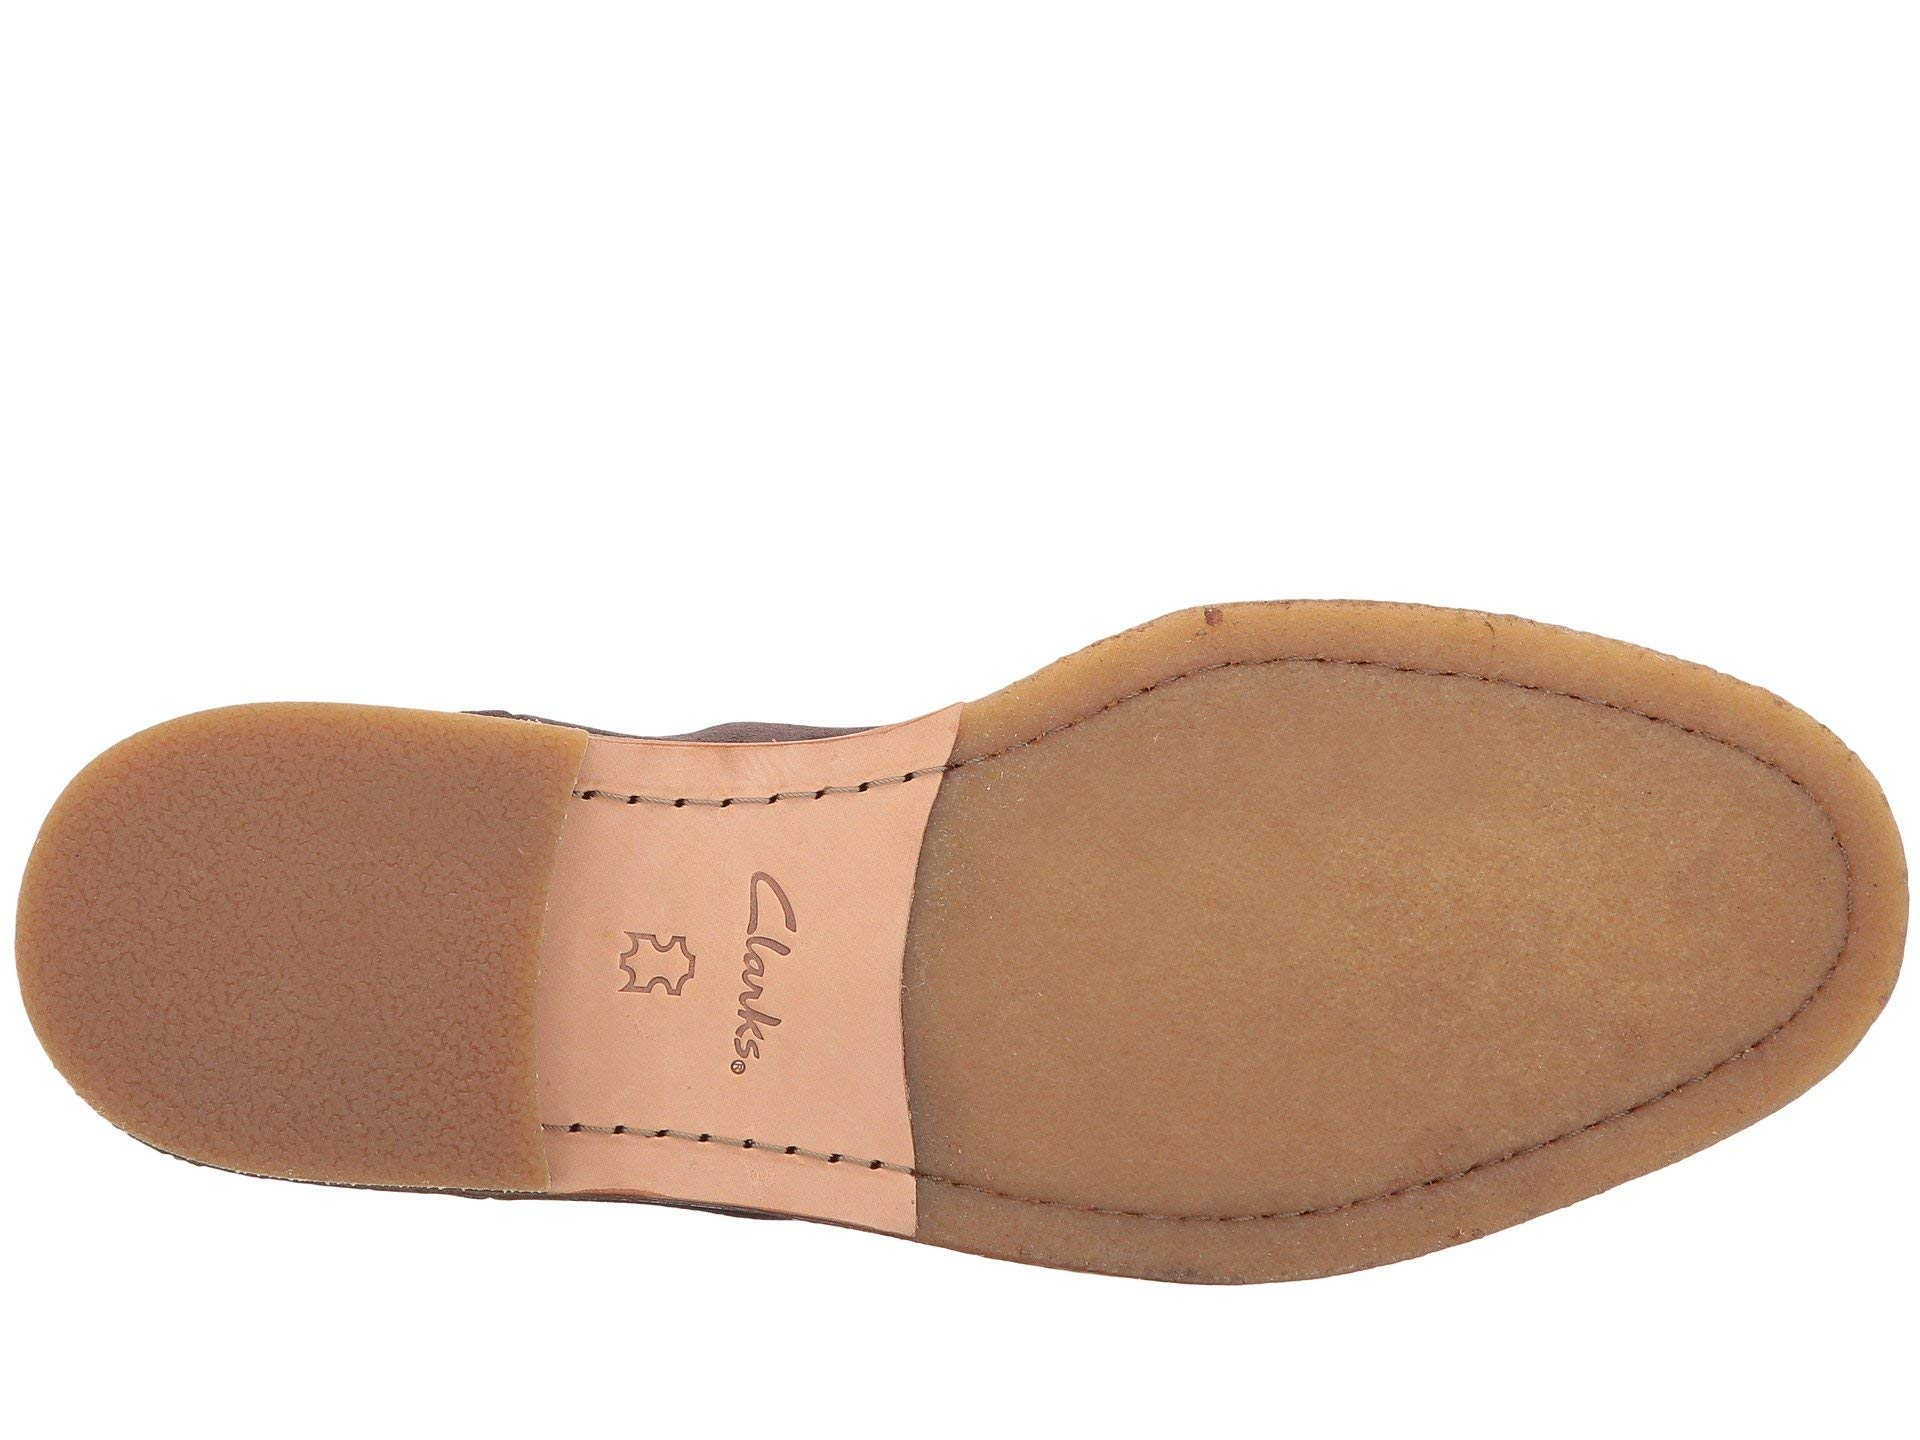text: (723, 847, 915, 1088)
